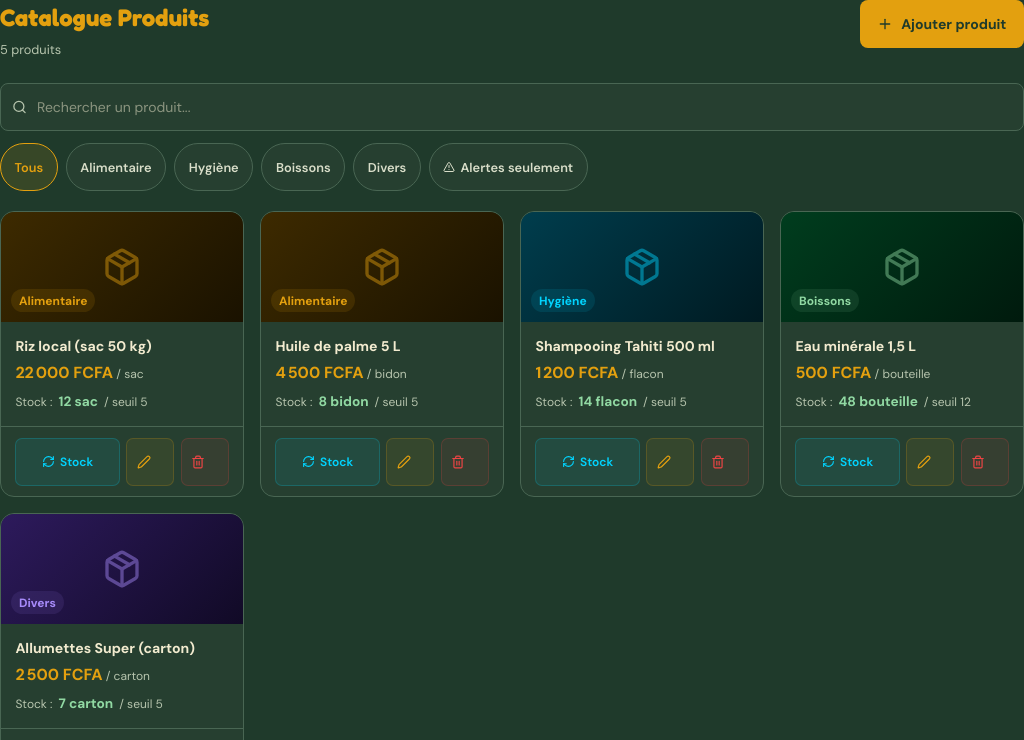
Test case: ProduitsPage › 24 — bouton "Stock" ouvre le modal de modification de stock
Click the button "Stock" below "22 000".
click(68, 462)  # box [15, 438, 120, 486]
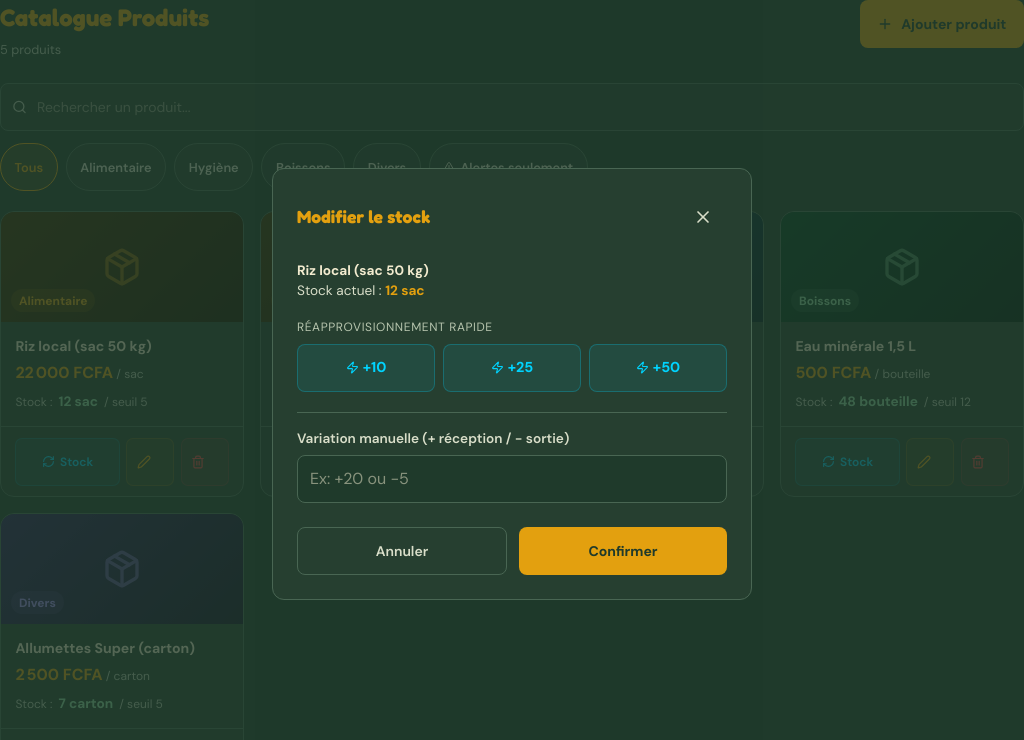
Result: the heading "Modifier le stock" is shown at [297, 204, 430, 230]
